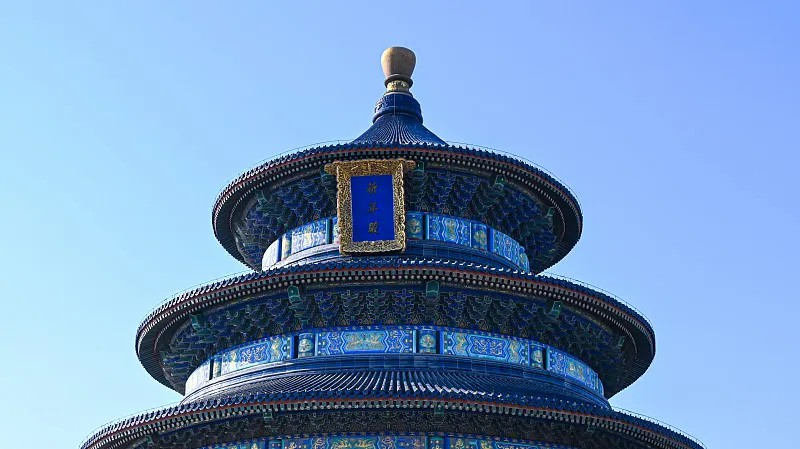Heaven: (79, 46, 709, 449)
